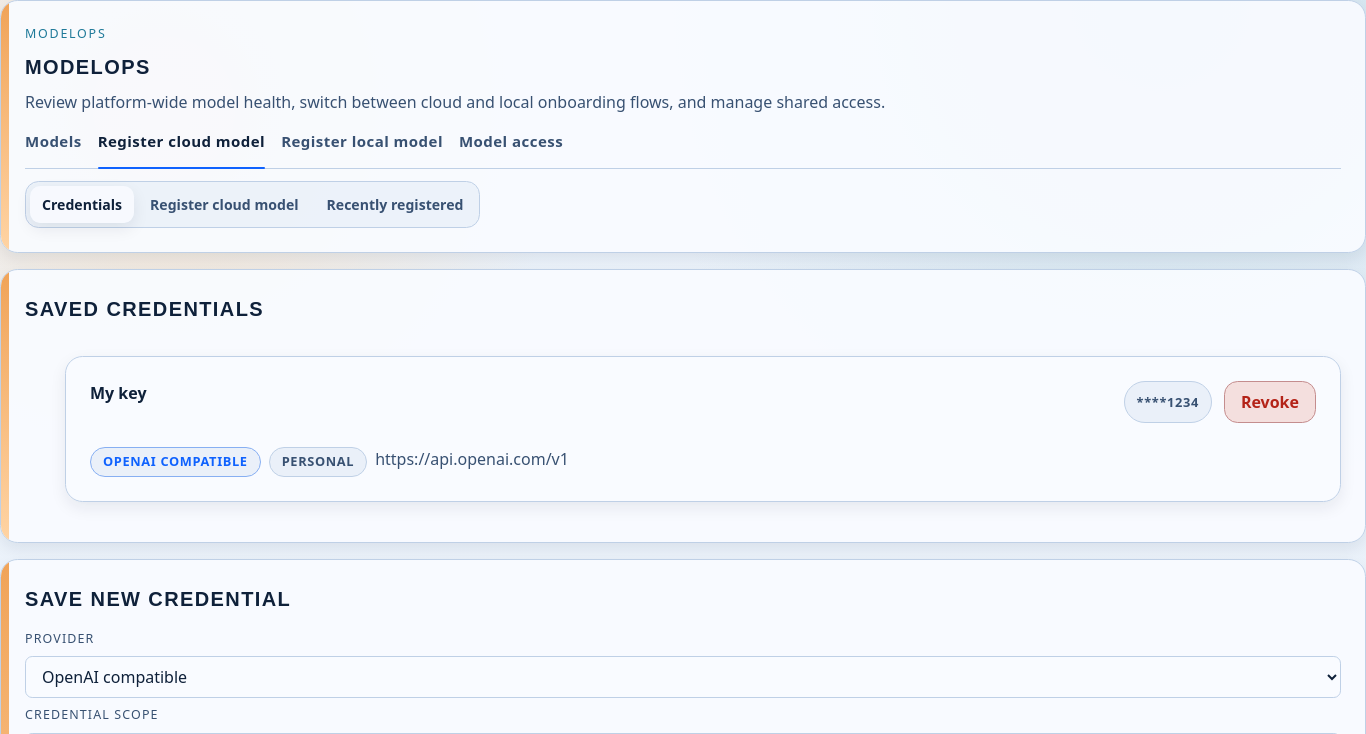
CloudModelRegisterPage › closes the credential revoke confirmation without revoking when canceled
Click the button "Revoke" at (1270, 402), box [1224,381,1316,423]
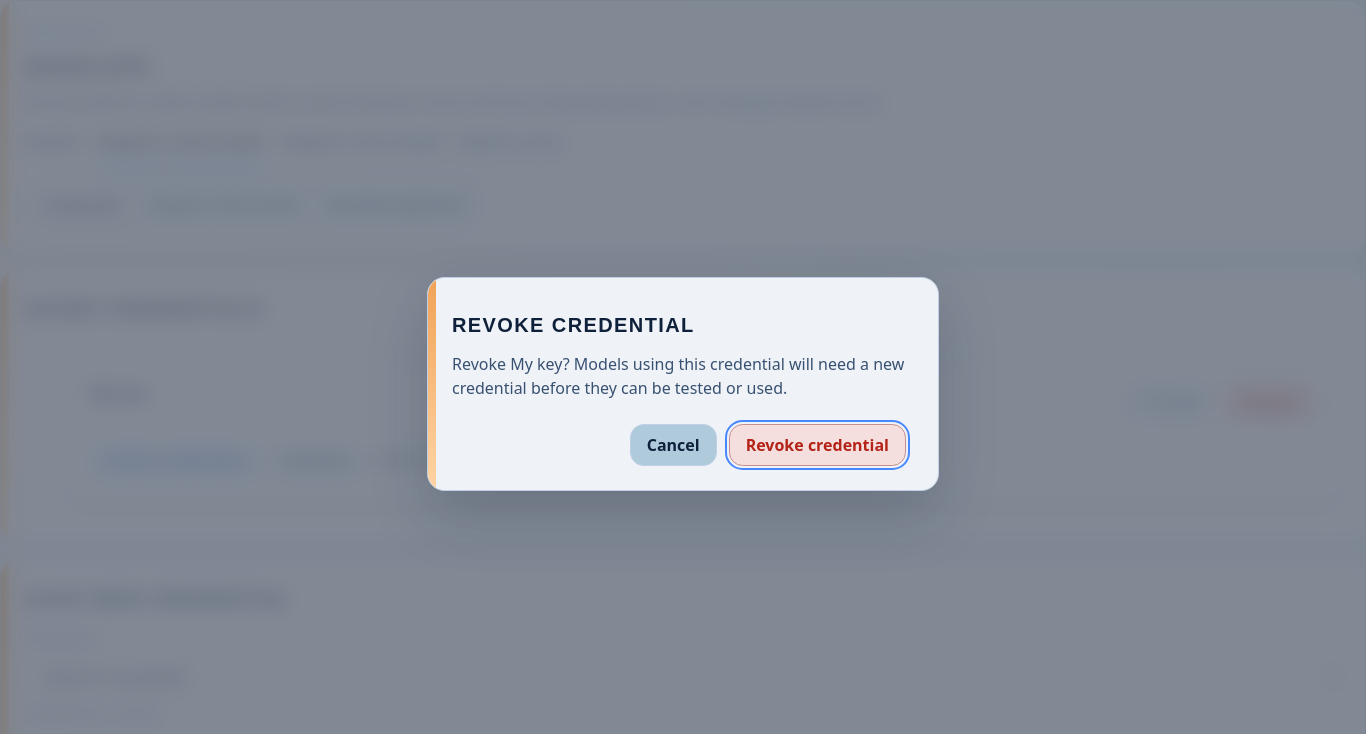
Expected: the dialog "Revoke credential" is shown, [427,277,939,491]
Expected: the text "Revoke My key? Models using this credential will need a new credential before they can be tested or used." is shown, [452,353,904,399]
Click the button "Cancel" at (673, 445), box [630,424,717,466]
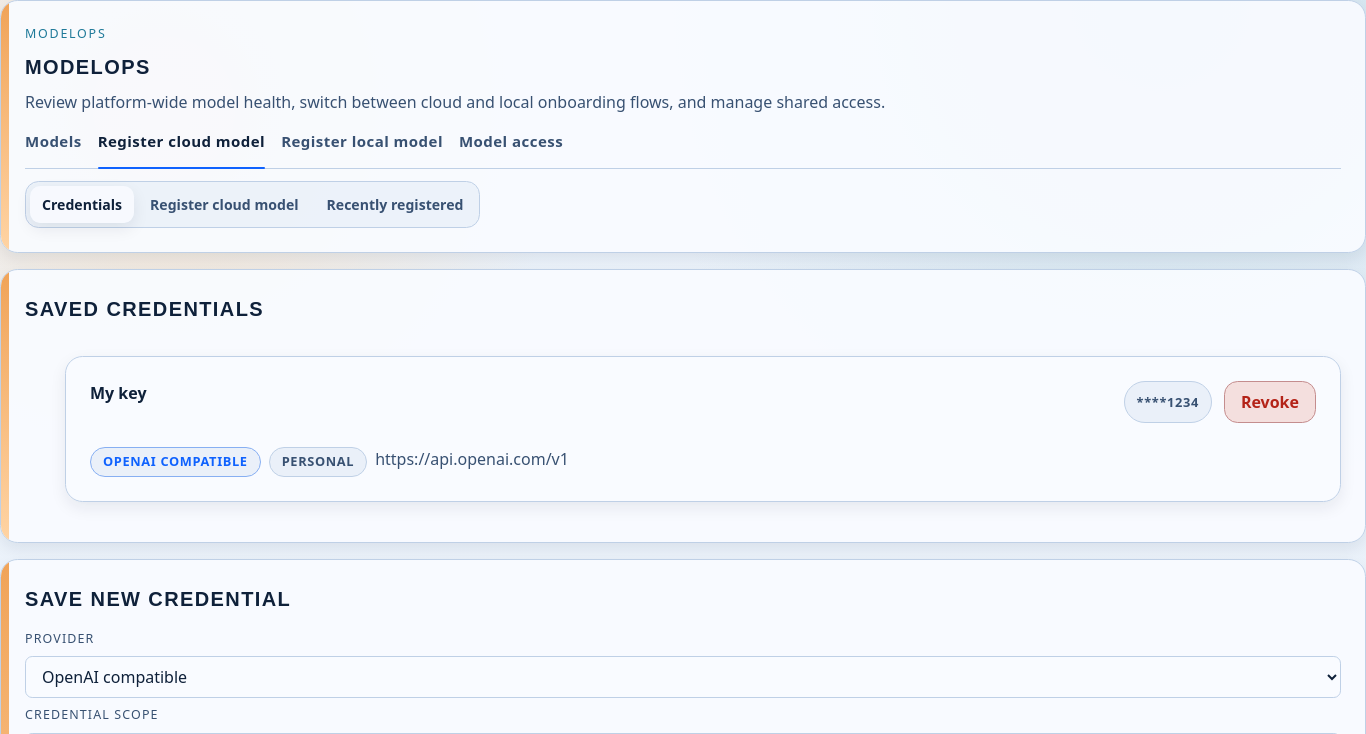
Expected: the heading "Revoke credential" is gone
